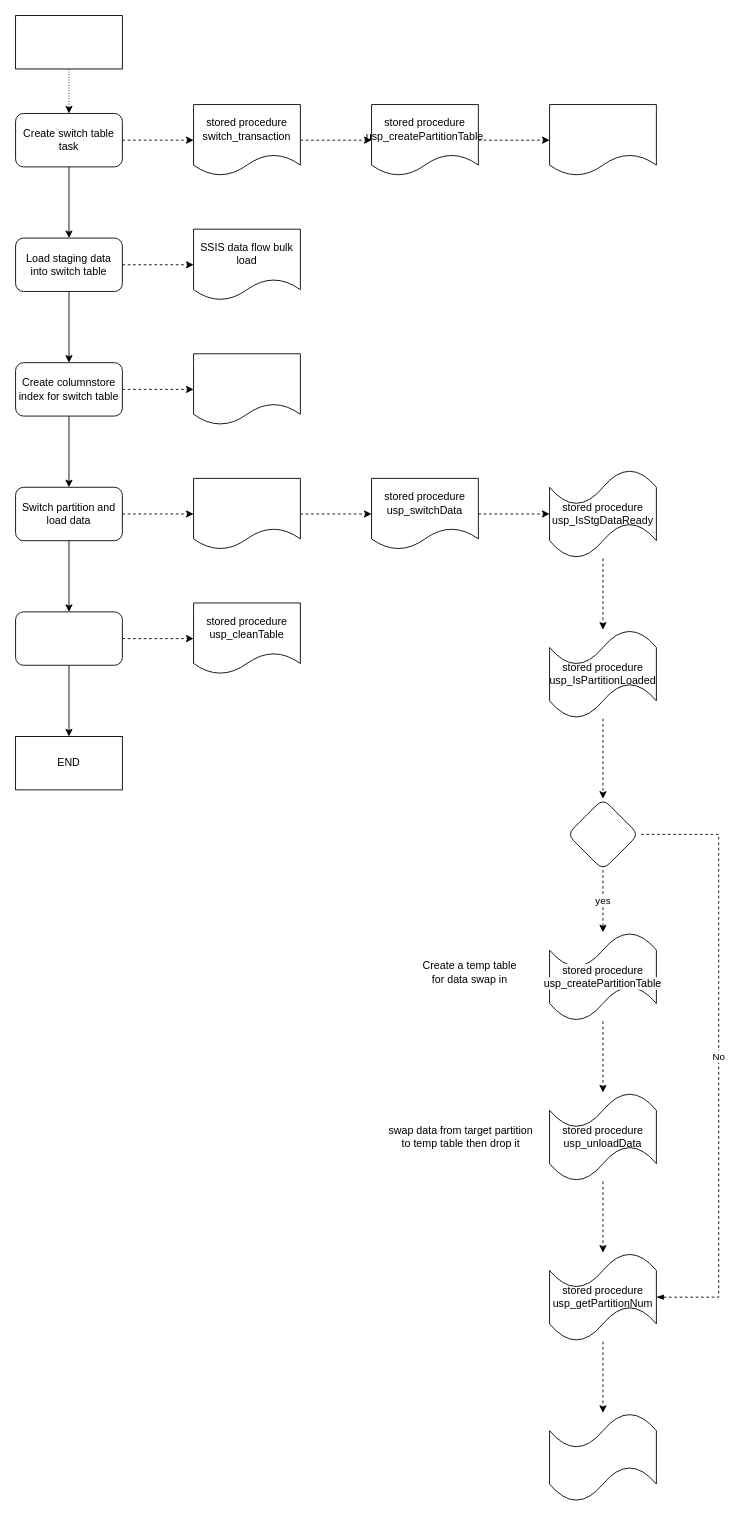
Image size: 741x1517. Some labels were removed from this diagram. The centre of each missing label's shape, as x and y in pixels:
Cleanup the switch table: point 68,638
Is target partiton loaded: point 602,834
START: point 68,42
stored procedure trans_partition_switch: point 246,513
stored procedure usp_createColmart: point 246,389
stored procedure usp_makePartitionOnTable: point 602,140
stored procedure usp_switchpartition: point 602,1457
